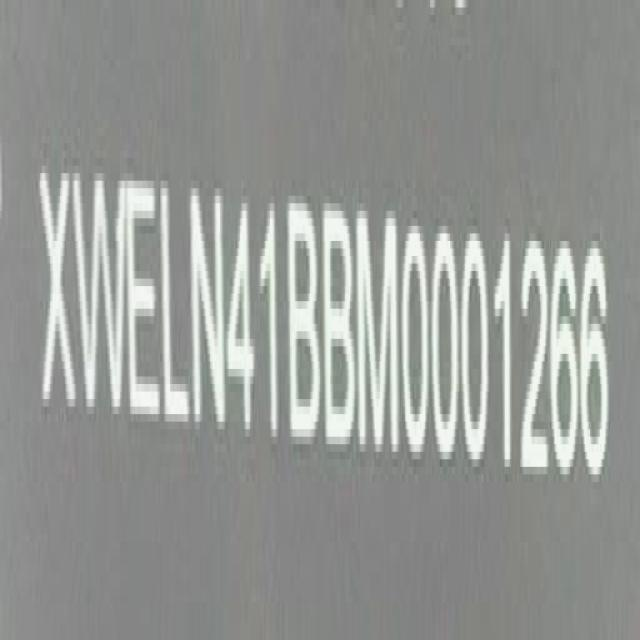0: (430, 222, 461, 470), (402, 218, 431, 468), (462, 225, 491, 470)
1: (260, 190, 283, 446), (495, 229, 516, 480)
2: (520, 239, 550, 482)
4: (227, 190, 258, 447)
6: (550, 232, 579, 485), (582, 239, 612, 482)
B: (289, 192, 323, 448), (324, 195, 356, 451)
E: (127, 174, 163, 430)
L: (158, 170, 188, 438)
M: (361, 203, 403, 464)
N: (187, 165, 225, 446)
W: (74, 160, 128, 431)
X: (36, 150, 75, 425)
